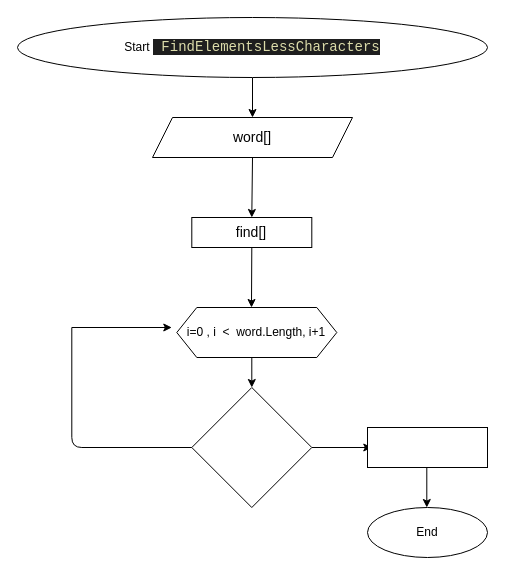
The diagram is 505 pixels wide and 575 high, and some of its shapes have lost their labels. Each missing label, with the centre of its shape:
find[i]=word[i]: the point at 427,447
word[i].Length<=3: the point at 251,447
